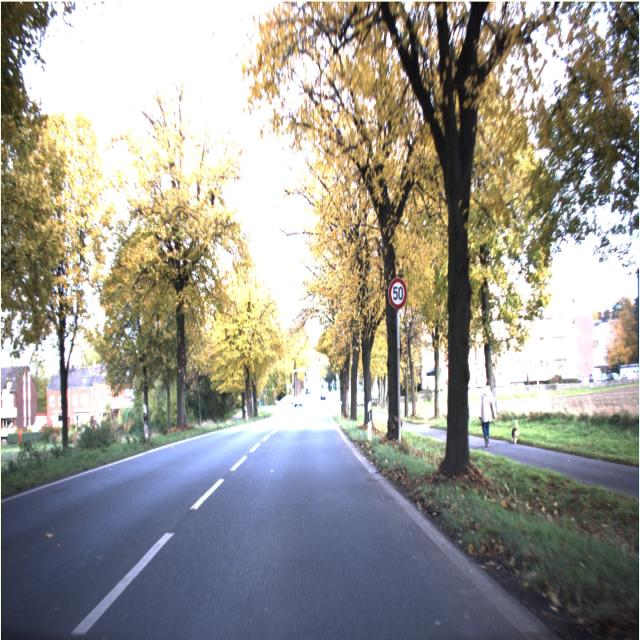speed limit 50: (388, 276, 407, 309)
